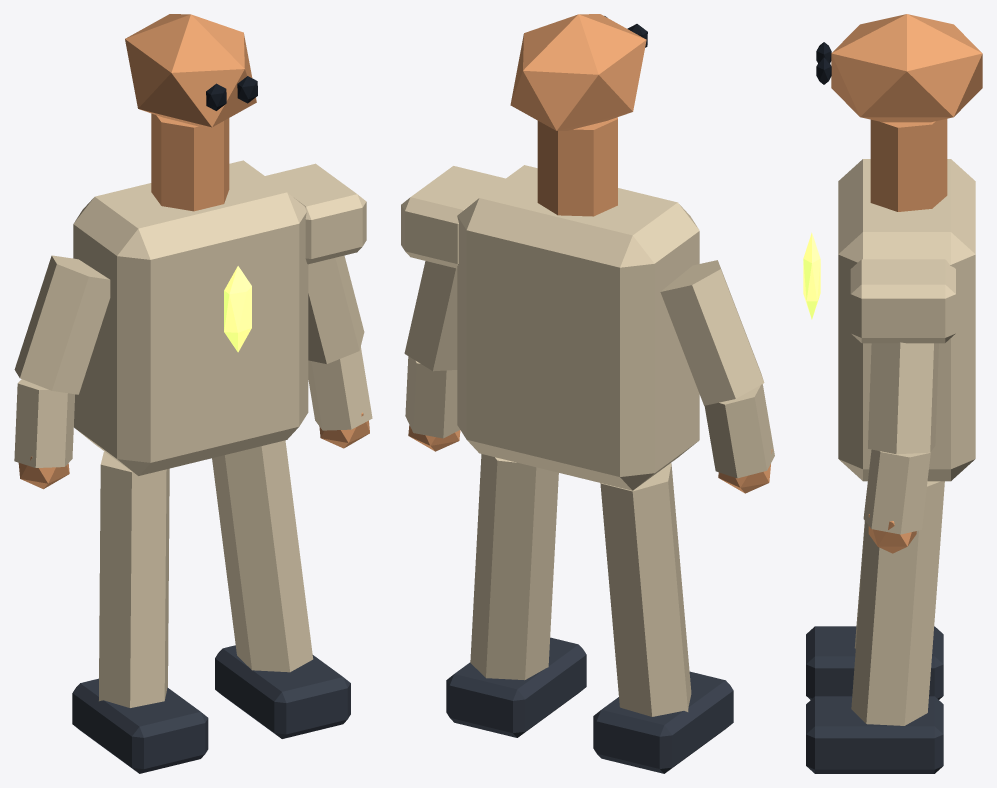
Rendered from npcs_013_seed11.glb.
The picture shows the model from 3 angles, left to right: view 1: azimuth 30°, elevation 25°; view 2: azimuth 150°, elevation 25°; view 3: azimuth 270°, elevation 25°; orthographic projection. The views are drawn at different scales.
Parts seen in each view (by area): view 1: npcs_013_seed11; view 2: npcs_013_seed11; view 3: npcs_013_seed11.
Part boxes in pixels (<box>): npcs_013_seed11: <box>14,14,372,773</box>; npcs_013_seed11: <box>401,14,774,773</box>; npcs_013_seed11: <box>803,14,982,773</box>.
Size of the model in its own units: 1.14 by 2.19 by 0.503.
